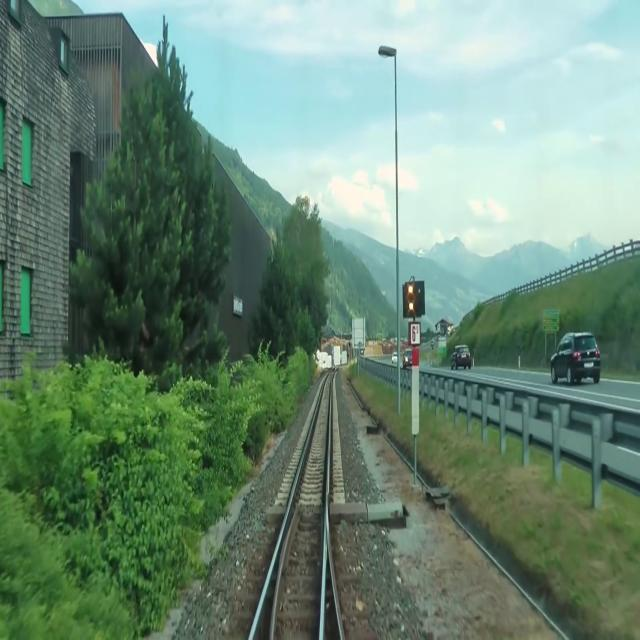rail-track: (275, 375, 330, 639), (324, 567, 339, 639)
